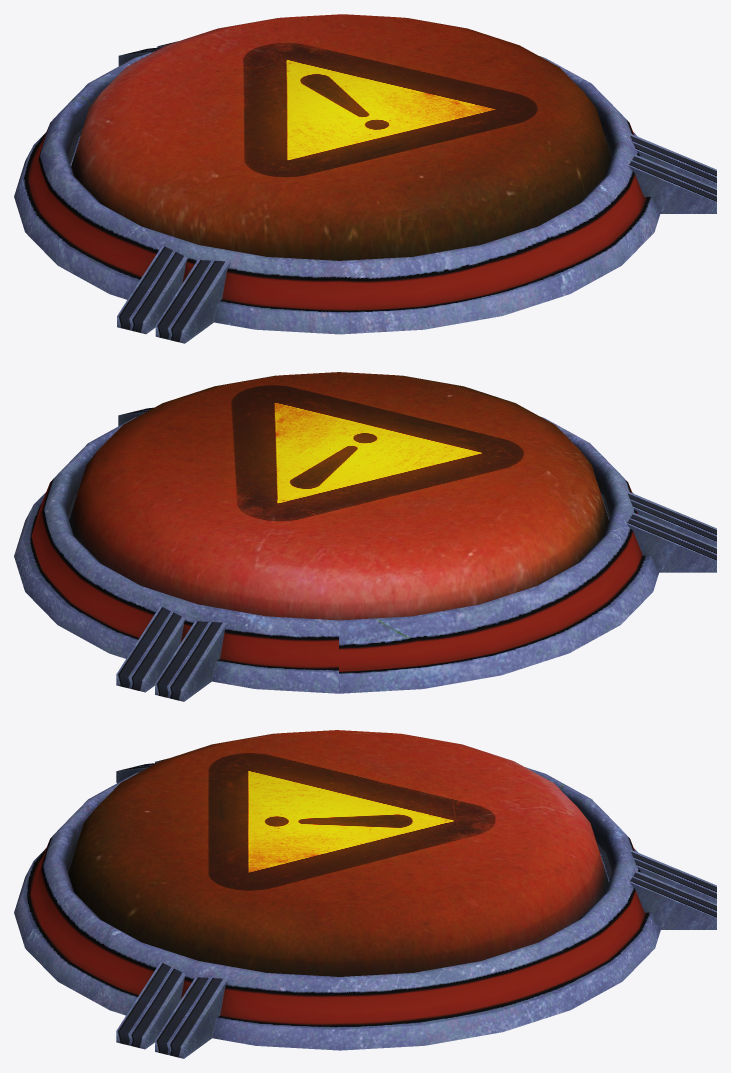
File: PressurePlate.FBX
3 renders of one model, top to bottom at view 1: azimuth 30°, elevation 25°; view 2: azimuth 150°, elevation 25°; view 3: azimuth 270°, elevation 25°, orthographic.
Parts seen in each view (by area): view 1: Object022, Cylinder005; view 2: Object022, Cylinder005; view 3: Object022, Cylinder005.
Boxes of the visible parts, <box> form: Object022: <box>71,14,611,260</box>; Cylinder005: <box>14,41,716,343</box>; Object022: <box>69,372,608,620</box>; Cylinder005: <box>14,407,716,701</box>; Object022: <box>68,730,608,976</box>; Cylinder005: <box>14,758,716,1058</box>.
Size of the model in its own units: 599 by 89.69 by 608.
